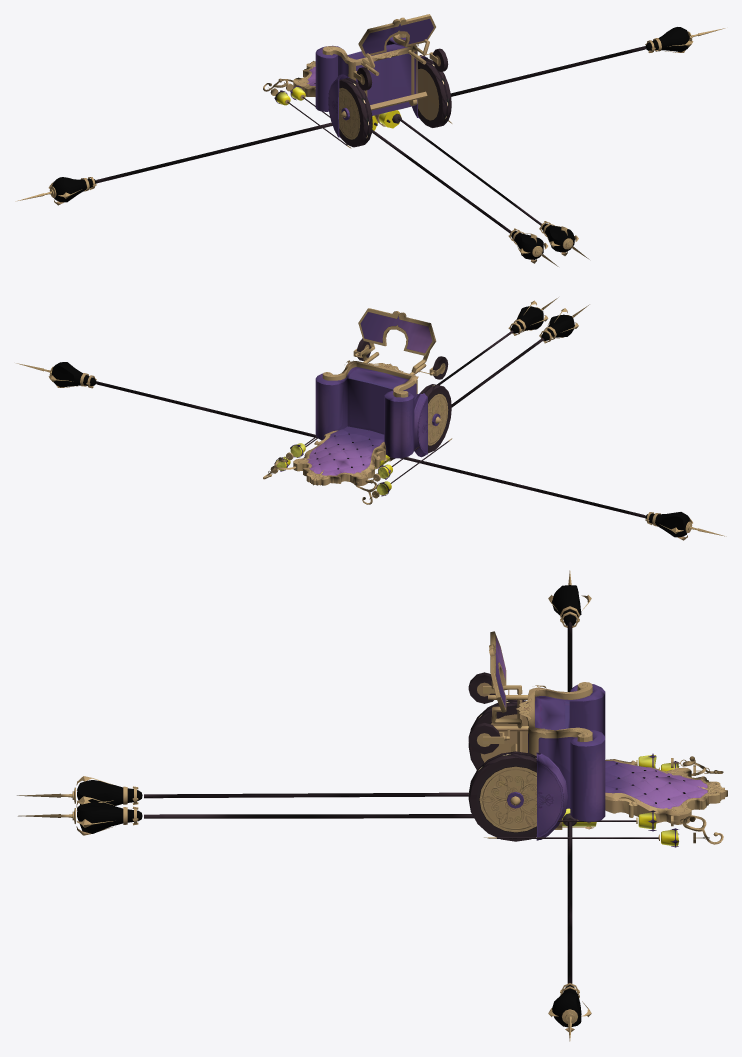
Rendered from rebecca.glb.
3 views of the same model, one above another, from view 1: azimuth 30°, elevation 25°; view 2: azimuth 150°, elevation 25°; view 3: azimuth 270°, elevation 25° (orthographic). The views are drawn at different scales.
Visible parts, largest first — view 1: CH_Rebecca_WP_Base; view 2: CH_Rebecca_WP_Base; view 3: CH_Rebecca_WP_Base.
Boxes of the visible parts, left/top/right/bottom form: CH_Rebecca_WP_Base: left=15, top=14, right=725, bottom=266; CH_Rebecca_WP_Base: left=16, top=297, right=726, bottom=540; CH_Rebecca_WP_Base: left=17, top=570, right=727, bottom=1041.
Size of the model in its own units: 7.33 by 1.29 by 4.67.
1 material, 1 textured.
